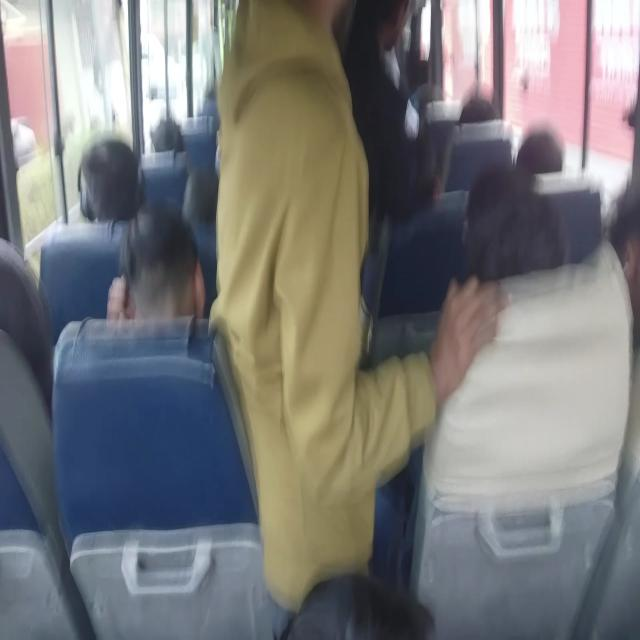person: (222, 0, 342, 128), (461, 165, 567, 286), (112, 202, 206, 326), (0, 237, 54, 423), (77, 138, 143, 227), (339, 0, 414, 77), (449, 92, 512, 183), (608, 188, 640, 360), (407, 82, 445, 161), (515, 128, 564, 179), (181, 165, 219, 227), (457, 96, 497, 127), (150, 117, 183, 154)
